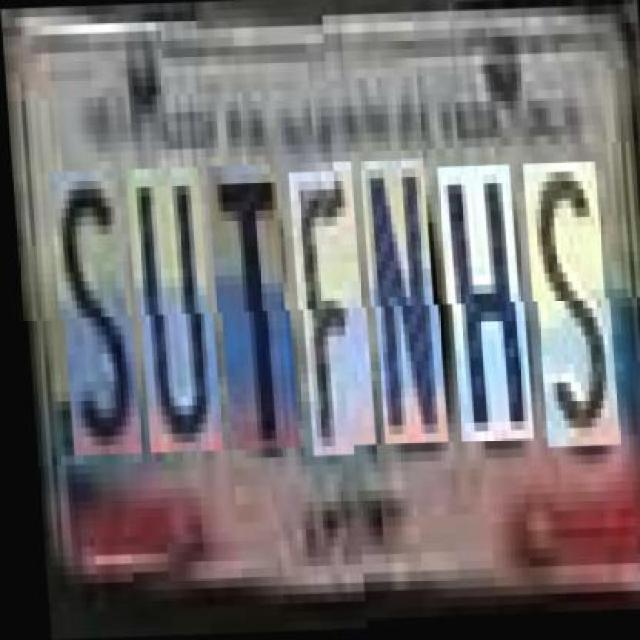f: (290, 173, 370, 458)
h: (439, 177, 527, 454)
n: (362, 172, 442, 456)
s: (524, 174, 614, 460), (51, 172, 135, 456)
t: (209, 166, 293, 451)
u: (127, 168, 216, 454)
